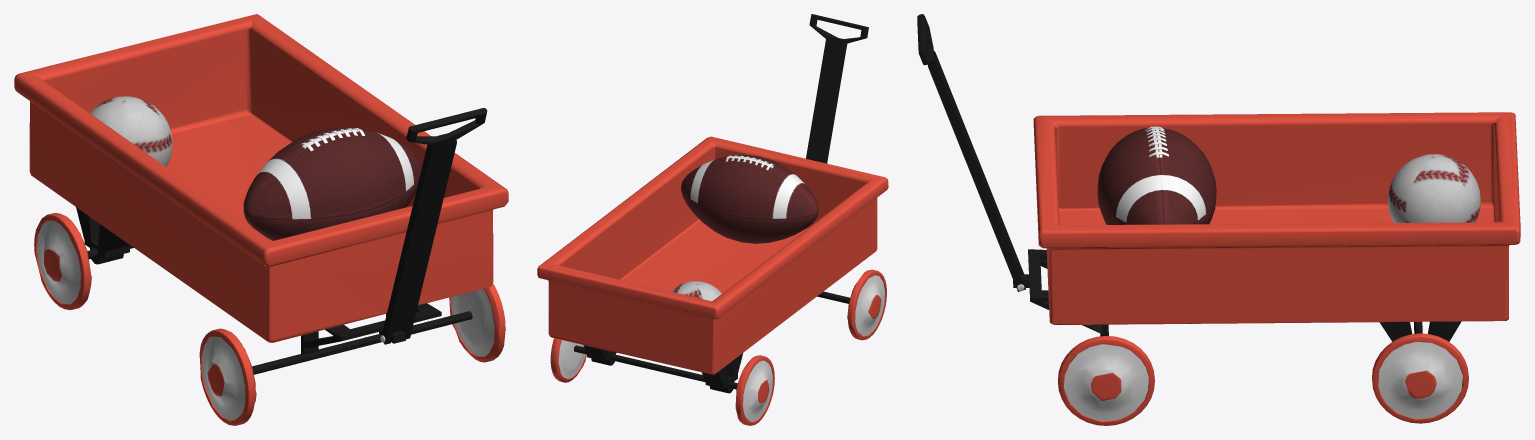
Rendered from carrellino_LOD1.fbx.
3 views of the same model, side by side, from view 1: azimuth 30°, elevation 25°; view 2: azimuth 150°, elevation 25°; view 3: azimuth 270°, elevation 25° (orthographic). The views are drawn at different scales.
Parts seen in each view (by area): view 1: Back wheels, Football, Volleyball; view 2: Back wheels, Football, Volleyball; view 3: Back wheels, Football, Volleyball.
Boxes of the visible parts, <box> form: Back wheels: <box>14,14,508,425</box>; Football: <box>243,127,421,240</box>; Volleyball: <box>90,96,172,166</box>; Back wheels: <box>537,14,888,425</box>; Football: <box>681,154,818,243</box>; Volleyball: <box>671,281,721,301</box>; Back wheels: <box>917,14,1520,425</box>; Football: <box>1097,126,1216,224</box>; Volleyball: <box>1388,154,1480,222</box>.
Size of the model in its own units: 256 by 295 by 484.
Materials: 6 (2 with a texture image).
